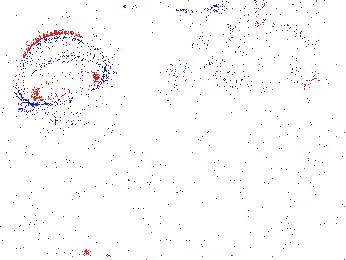moon jellyfish: (152, 6, 237, 91), (16, 33, 107, 105), (229, 18, 318, 87), (117, 15, 198, 81)
